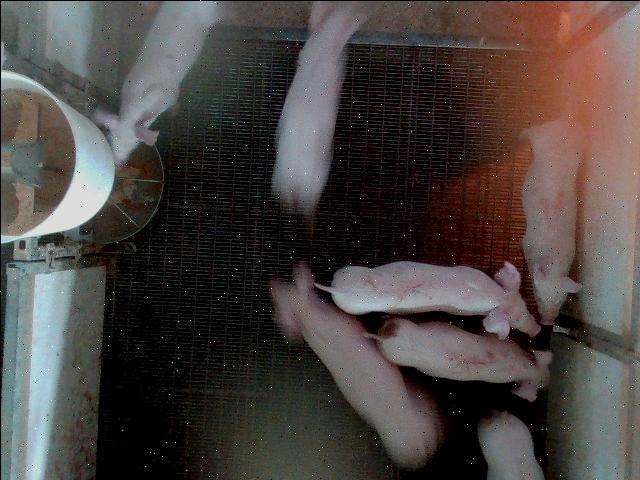pig-4: (522, 119, 585, 324)
pig-5: (364, 317, 549, 400)
